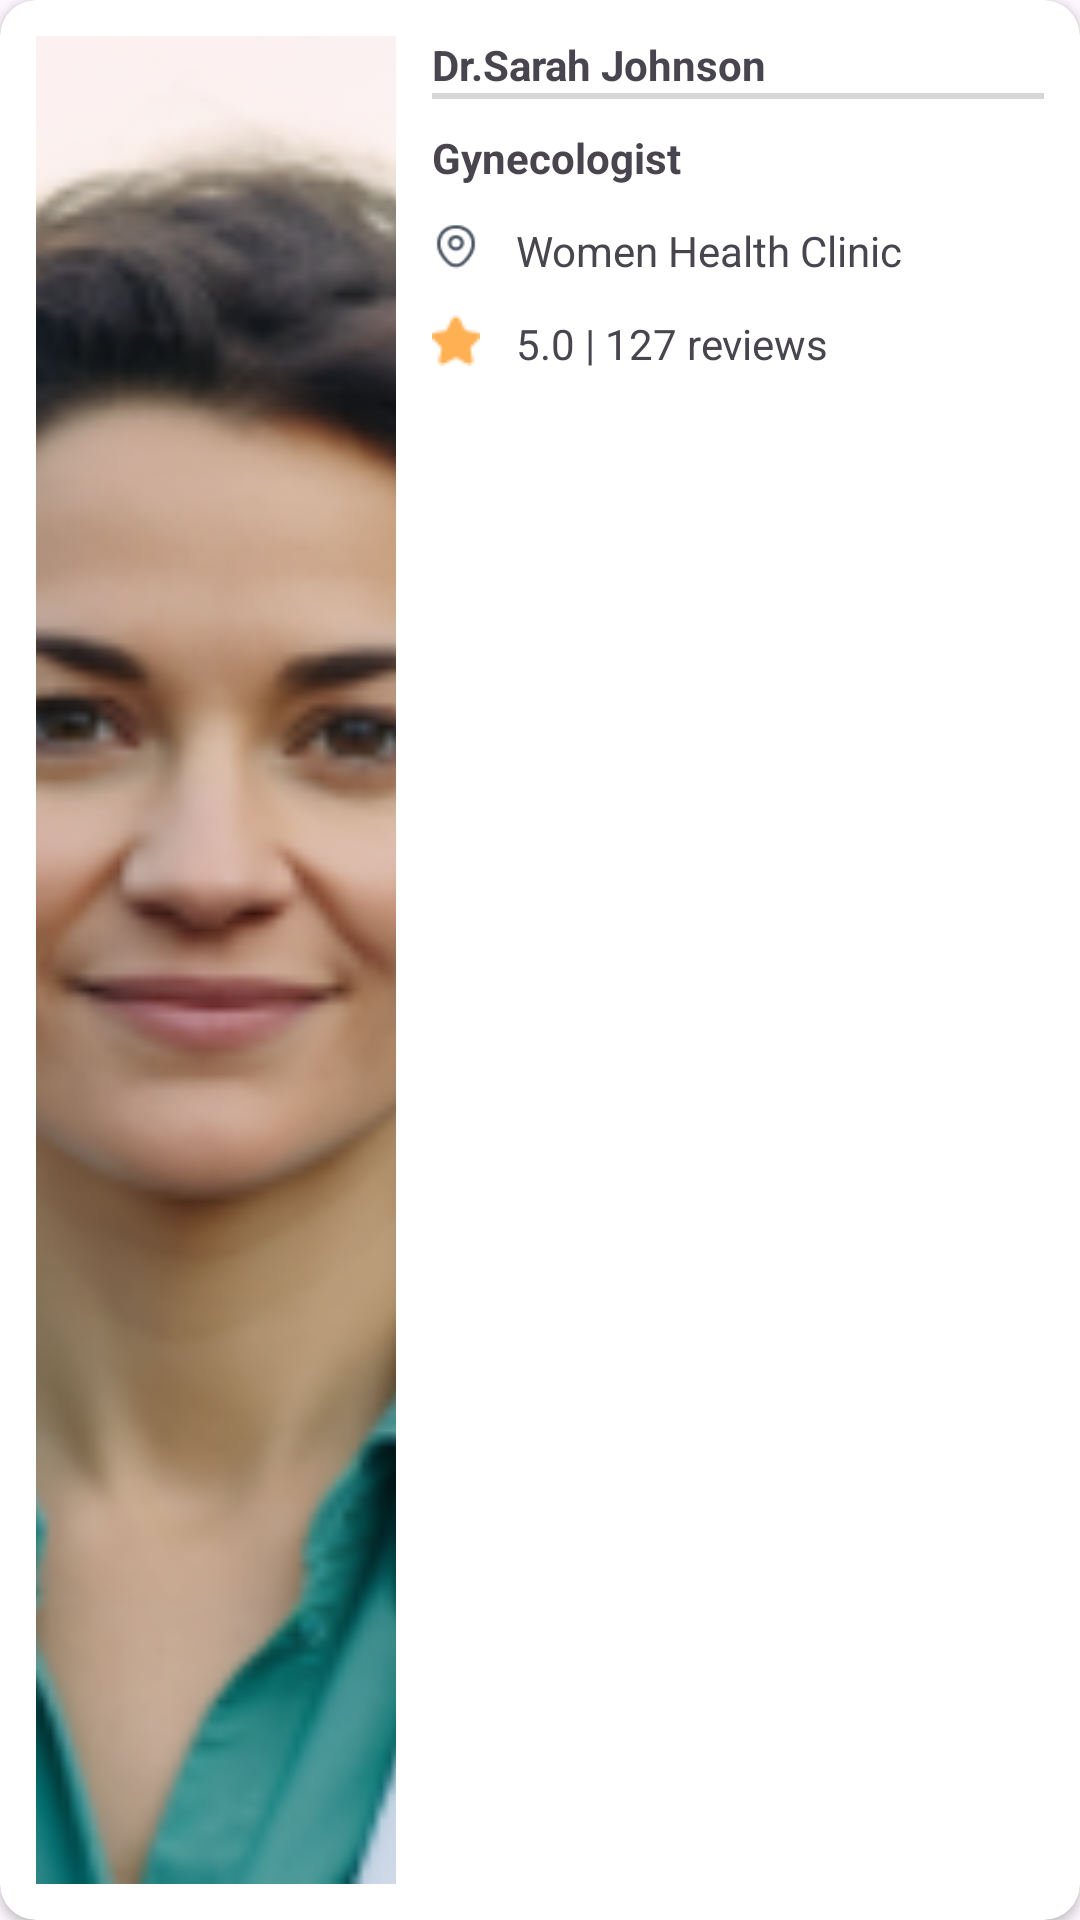

Icons on this 1080w x 1920h Android screen, each with the point to tap as (x,y):
custom location: (456,246)
stars: (456,340)
